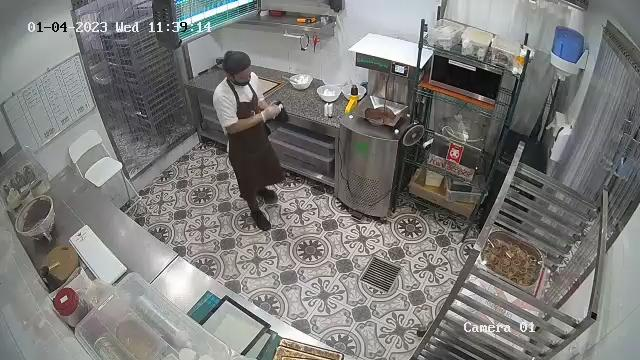apron: (222, 84, 275, 160)
